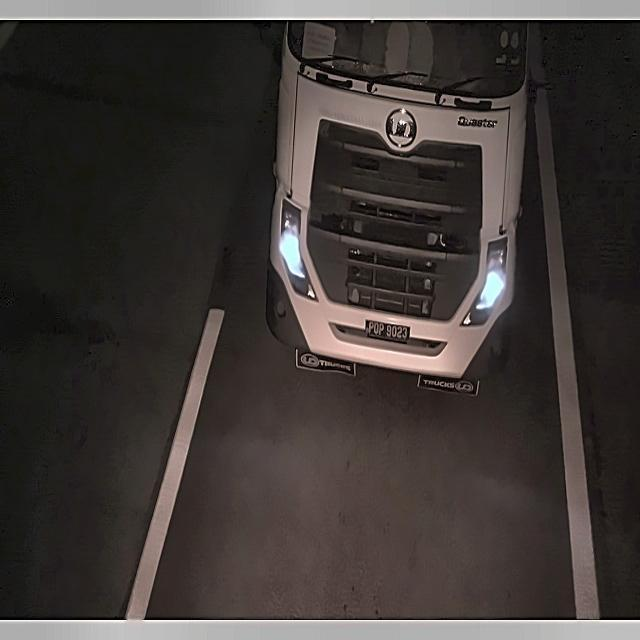car: (358, 312, 420, 347)
